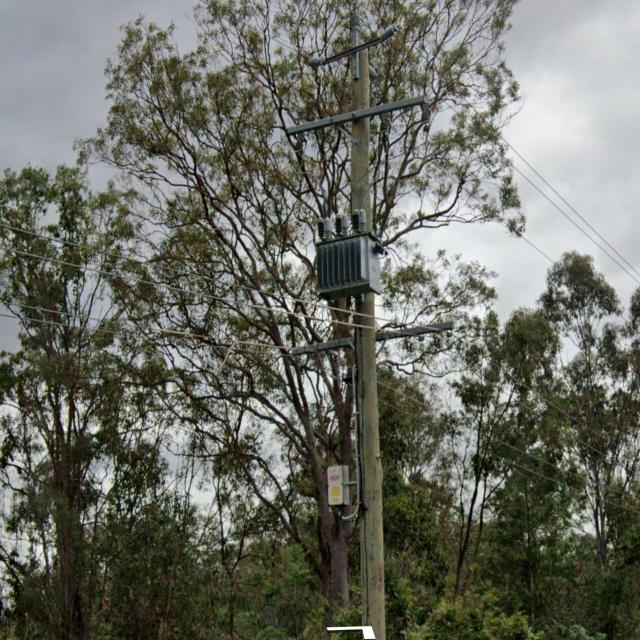HV-transmission: (282, 12, 430, 154)
crossarm: (284, 93, 430, 139), (290, 320, 454, 360), (307, 11, 398, 80)
timber-pole: (349, 40, 387, 640)
transformer: (314, 210, 377, 304)
